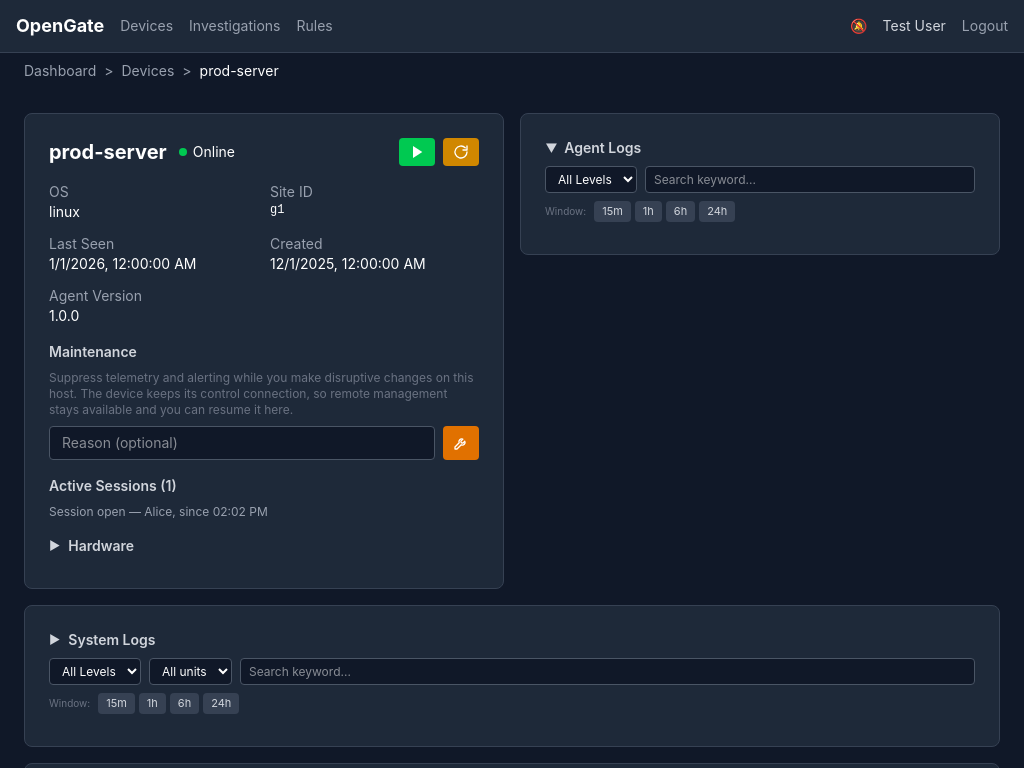
Test: Device Detail Flow (integration) › navigates back to device list via breadcrumbs
What coordinates should you click on to do the following:
click the link "Devices" next to "OpenGate"
I would click on:
 (147, 26)
Its box is [120,16,173,36].
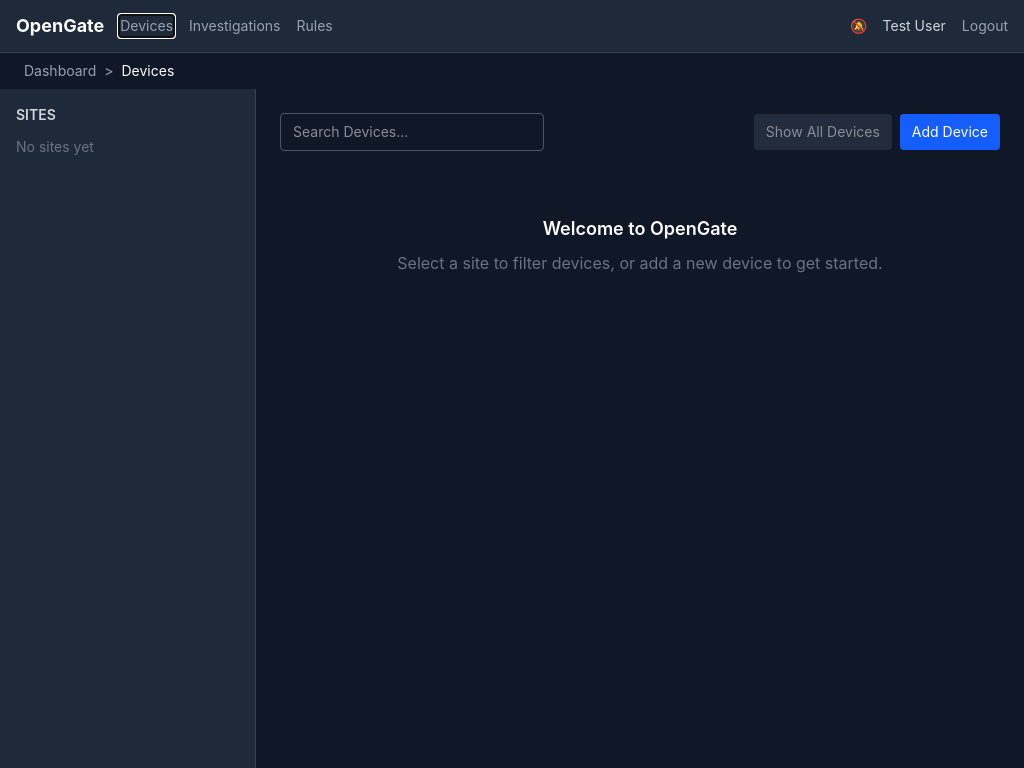
Result: the heading "Welcome to OpenGate" is shown at [543,218,737,239]
